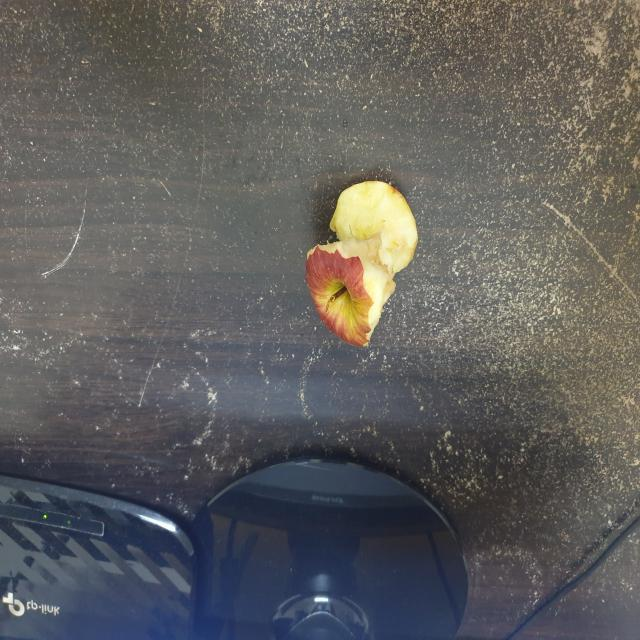apple: (298, 158, 430, 358)
